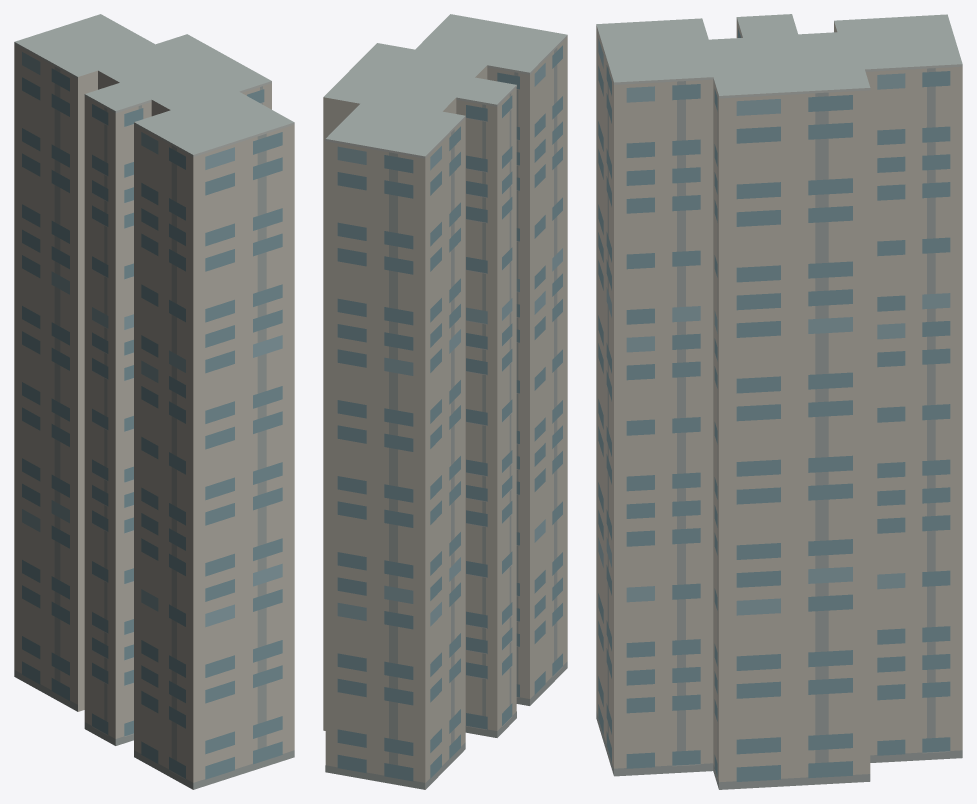
File: residential-9a8ba30f-12aa-4ee3-8b94-74c1c30c2fb7.glb
The picture shows the model from 3 angles, left to right: view 1: azimuth 30°, elevation 25°; view 2: azimuth 150°, elevation 25°; view 3: azimuth 270°, elevation 25°; orthographic projection. The views are drawn at different scales.
Parts seen in each view (by area): view 1: residential-9a8ba30f-12aa-4ee3-8b94-74c1c30c2fb7.tmp; view 2: residential-9a8ba30f-12aa-4ee3-8b94-74c1c30c2fb7.tmp; view 3: residential-9a8ba30f-12aa-4ee3-8b94-74c1c30c2fb7.tmp.
Boxes of the visible parts, x1=… form: residential-9a8ba30f-12aa-4ee3-8b94-74c1c30c2fb7.tmp: x1=14, y1=14, x2=294, y2=789; residential-9a8ba30f-12aa-4ee3-8b94-74c1c30c2fb7.tmp: x1=323, y1=14, x2=567, y2=789; residential-9a8ba30f-12aa-4ee3-8b94-74c1c30c2fb7.tmp: x1=596, y1=14, x2=962, y2=789.
Size of the model in its own units: 17.5 by 69 by 33.03.
